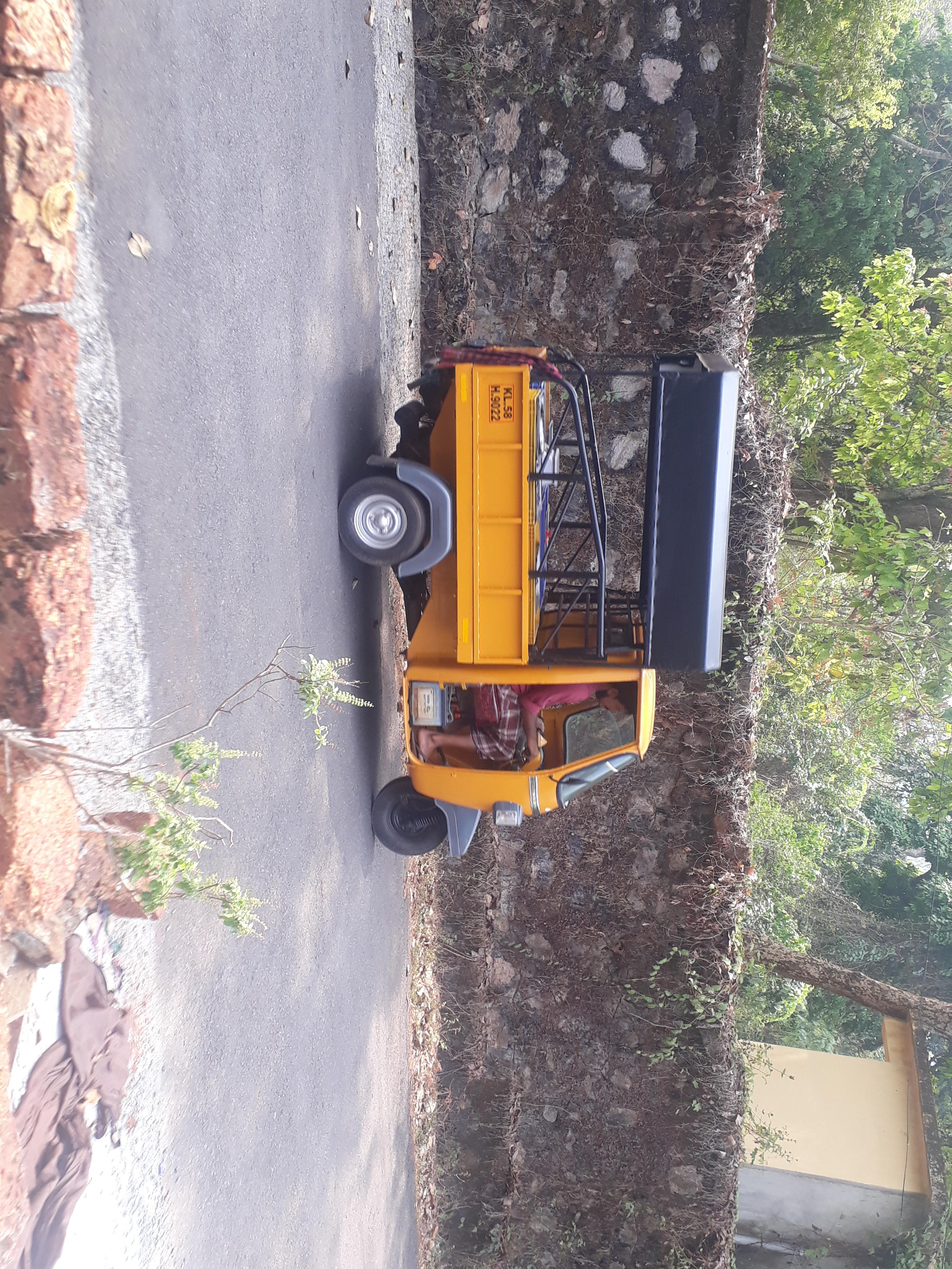Non-emergency: (349, 313, 770, 976)
